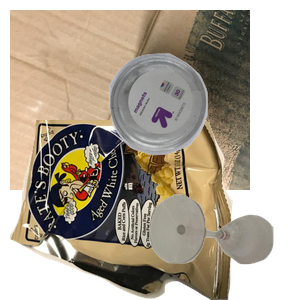cardboard: (10, 10, 250, 190)
glass: (147, 192, 300, 300)
plastic: (107, 51, 300, 199)
trash: (10, 120, 235, 300)
